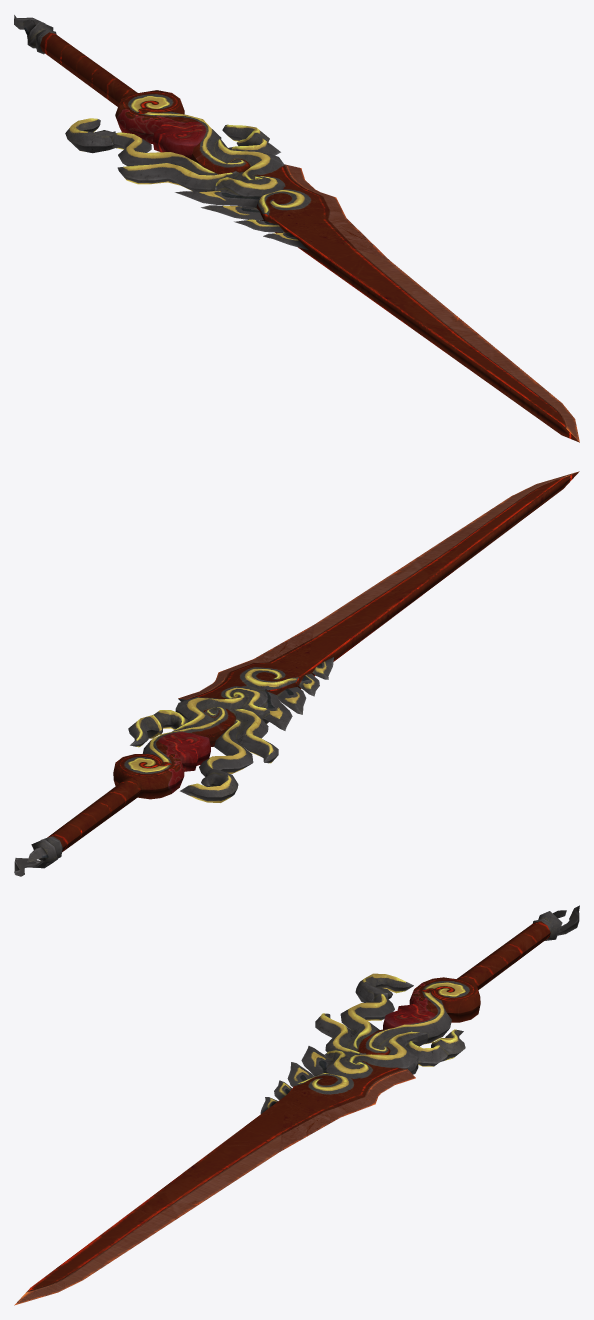
Rendered from P_Sword13_mod.FBX.
3 views of the same model, one above another, from view 1: azimuth 30°, elevation 25°; view 2: azimuth 150°, elevation 25°; view 3: azimuth 330°, elevation 25° (orthographic). The views are drawn at different scales.
Parts seen in each view (by area): view 1: polySurface1; view 2: polySurface1; view 3: polySurface1.
Boxes of the visible parts, x1,y1,x2,y2 form: polySurface1: (14, 15, 579, 442); polySurface1: (14, 471, 579, 876); polySurface1: (14, 905, 579, 1305).
Size of the model in its own units: 18.64 by 3.33 by 123.
